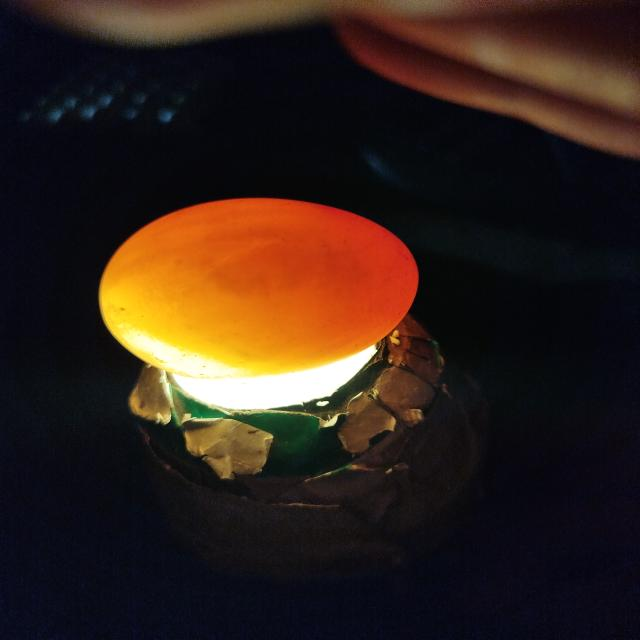Gema Quebrada: (156, 198, 419, 373)
